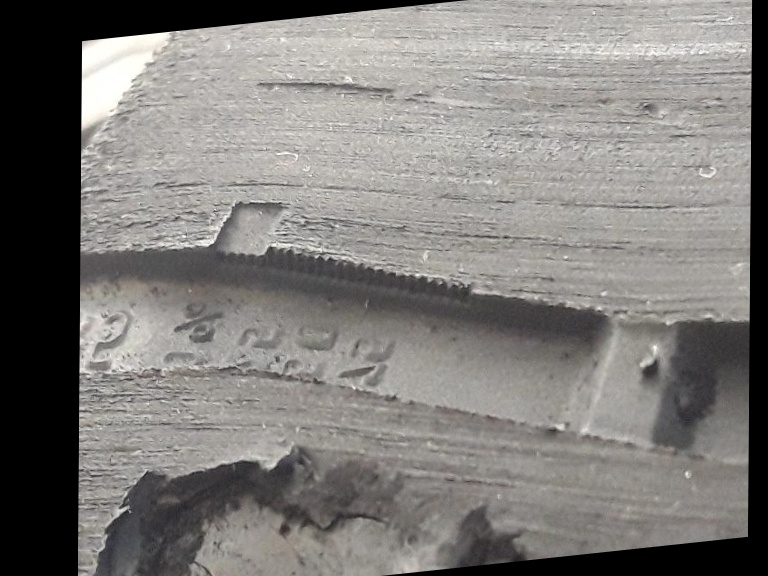temoin:0: (199, 177, 302, 308)
